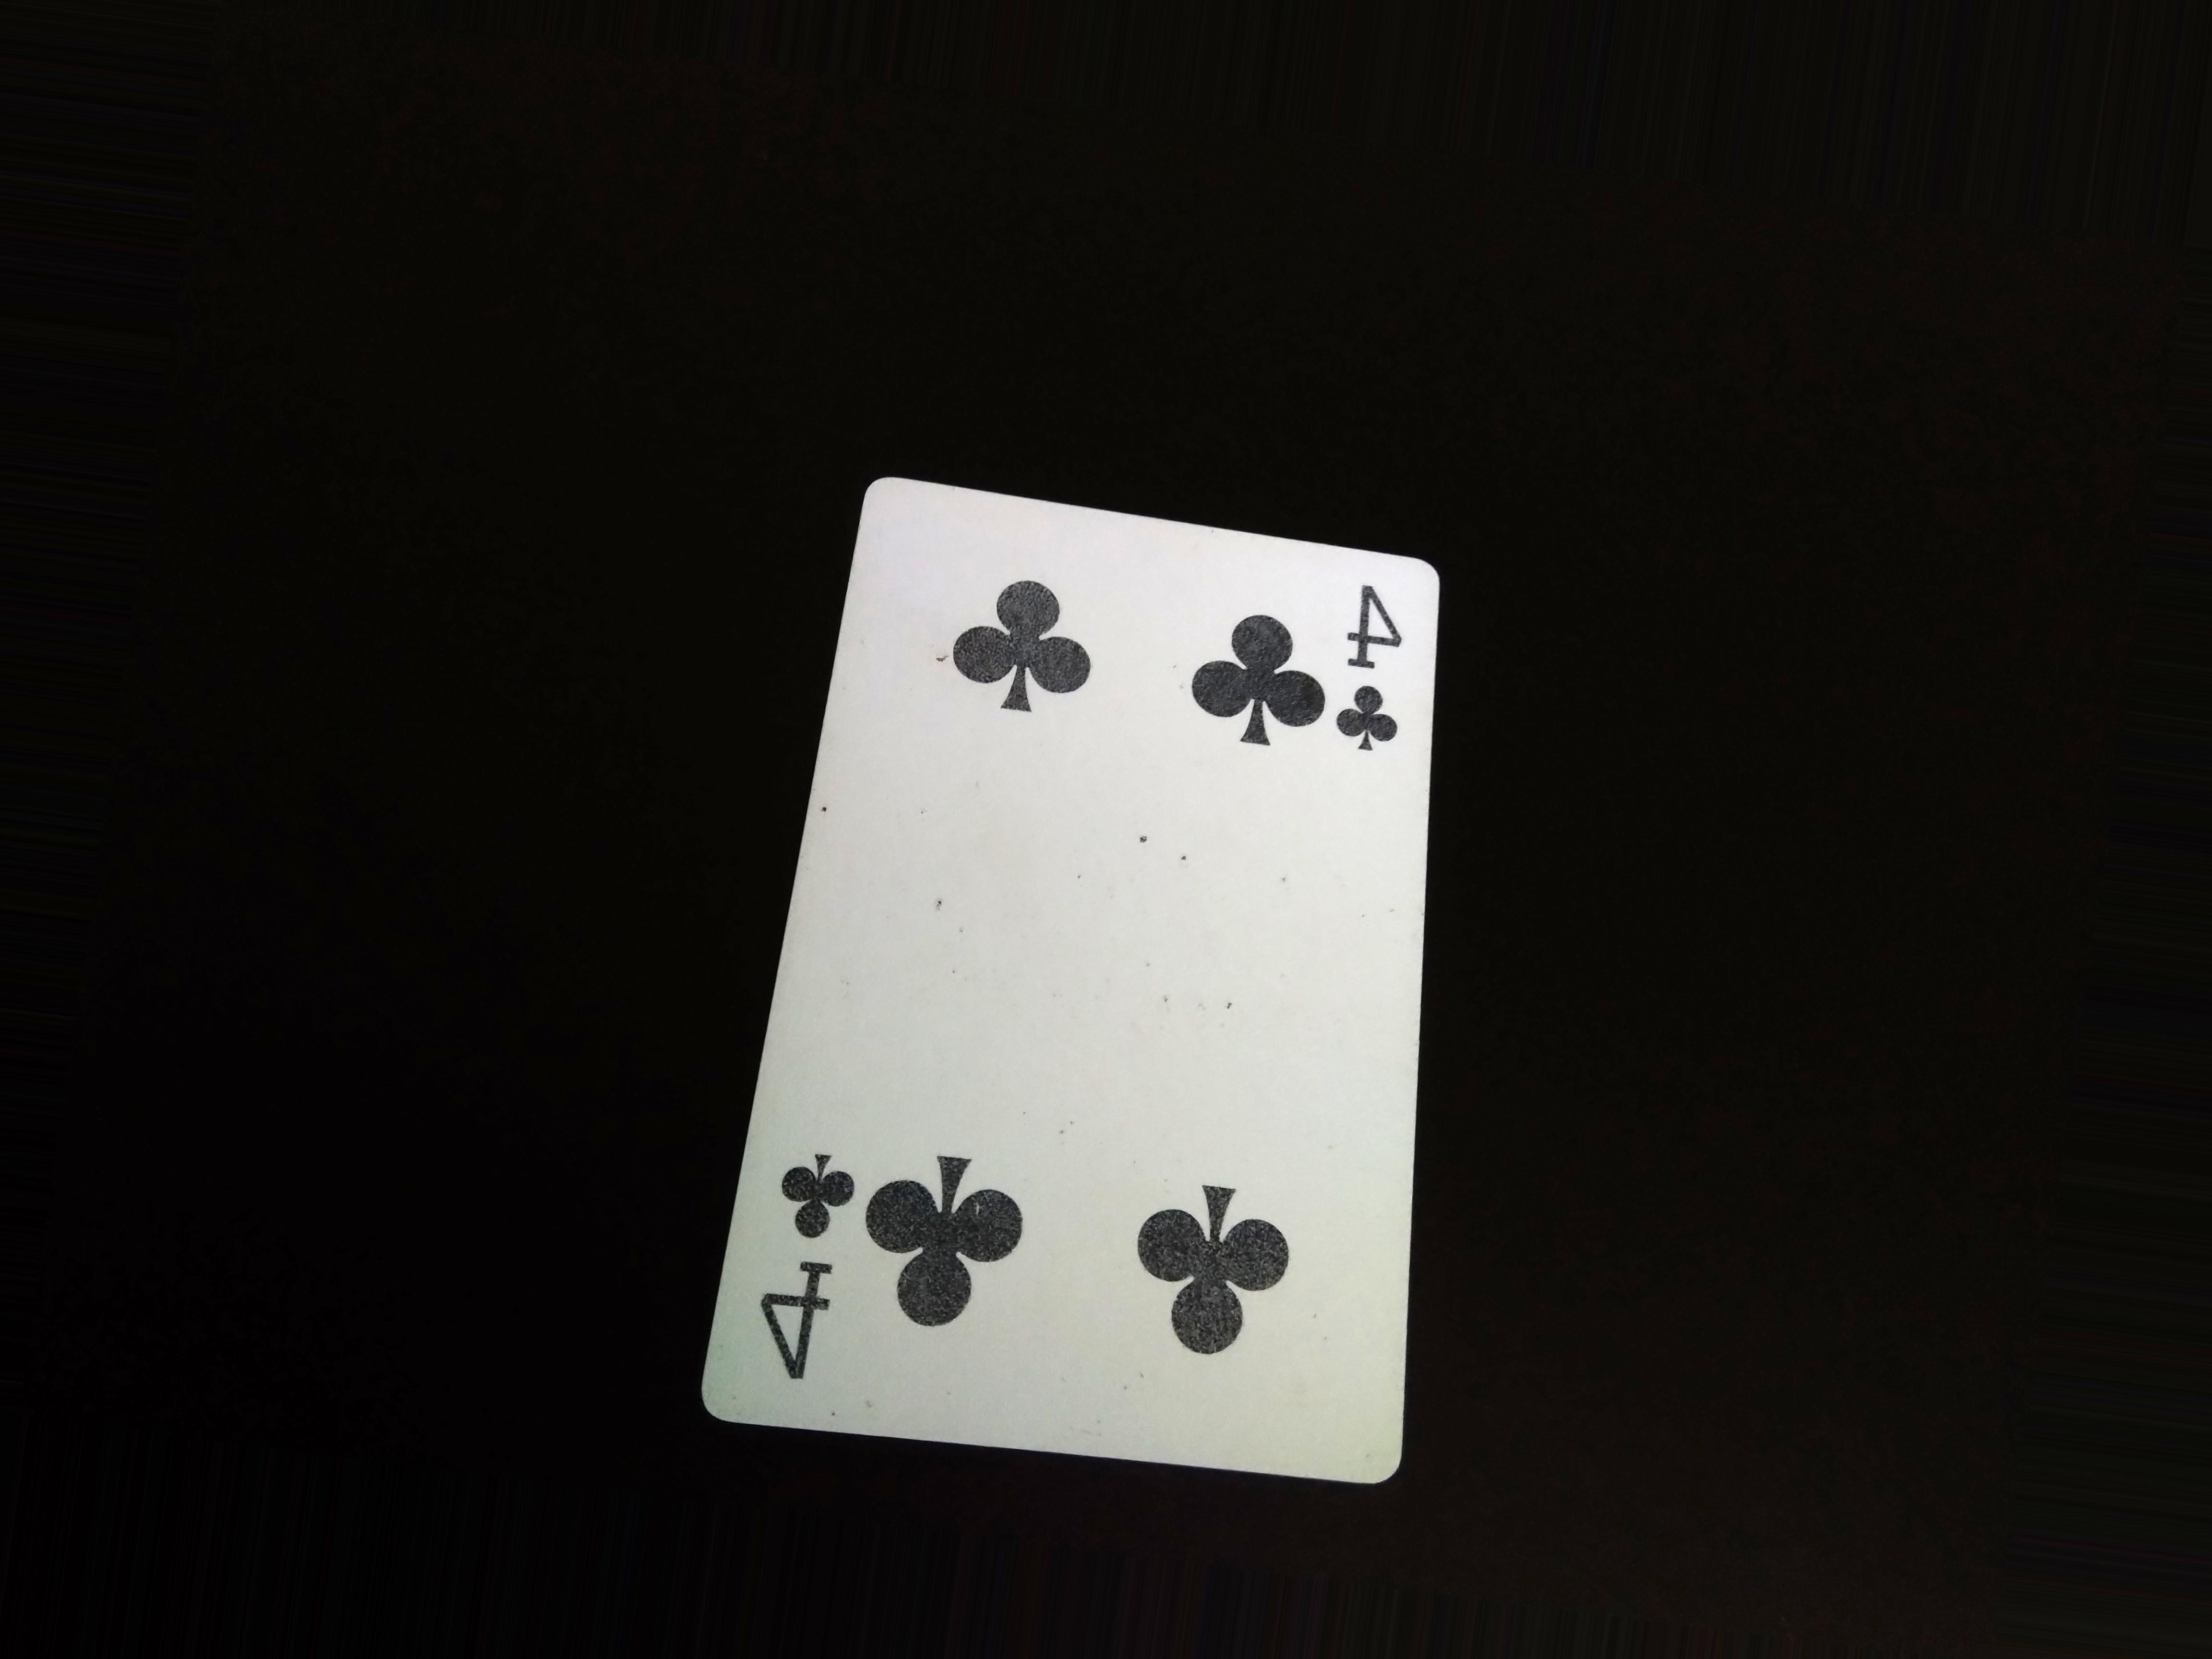4C: (1348, 556, 1404, 772)
